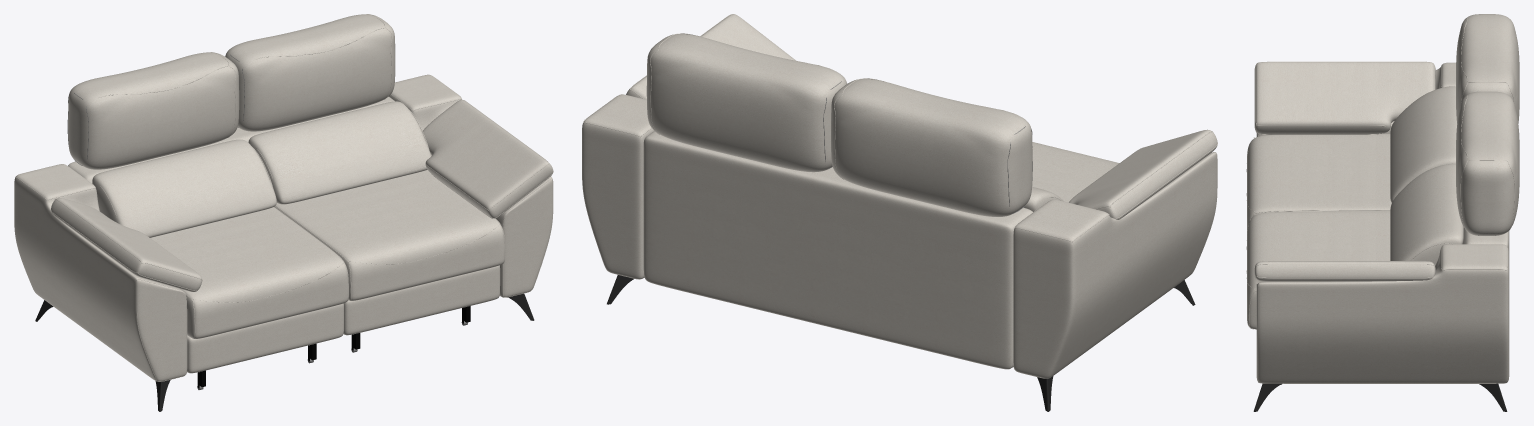
The model's file is 2arm2seats.glb.
3 renders of one model, left to right at view 1: azimuth 30°, elevation 25°; view 2: azimuth 150°, elevation 25°; view 3: azimuth 270°, elevation 25°, orthographic. The views are drawn at different scales.
Visible parts, largest first — view 1: assento (×2), Cabeça (×2), object 11, object 28, object 27, object 15, object 25, object 19, Costa; view 2: Costa, Cabeça (×2), object 11, object 25, object 19, assento, object 15; view 3: object 25, assento (×2), Cabeça (×2), object 19, object 27, object 28, object 15, object 11, Costa, D=~ 0,00 m, object 23, object 24.
Part boxes in pixels (<box>): assento (×2): <box>150,170,504,389</box>; Cabeça (×2): <box>68,14,395,169</box>; object 11: <box>14,164,186,381</box>; object 28: <box>92,139,276,237</box>; object 27: <box>248,101,431,204</box>; object 15: <box>422,99,553,218</box>; object 25: <box>389,74,552,297</box>; object 19: <box>51,198,202,291</box>; Costa: <box>68,96,394,183</box>; Costa: <box>643,131,1032,369</box>; Cabeça (×2): <box>646,34,1032,216</box>; object 11: <box>1013,152,1217,378</box>; object 25: <box>582,94,653,279</box>; object 19: <box>1069,129,1217,219</box>; assento: <box>1012,142,1119,367</box>; object 15: <box>626,14,795,99</box>; object 25: <box>1256,244,1509,383</box>; assento (×2): <box>1247,133,1391,384</box>; Cabeça (×2): <box>1456,14,1519,235</box>; object 19: <box>1254,62,1435,134</box>; object 27: <box>1390,163,1463,265</box>; object 28: <box>1390,86,1457,202</box>; object 15: <box>1254,261,1435,282</box>; object 11: <box>1256,62,1455,136</box>; Costa: <box>1462,227,1509,253</box>; D=~ 0,00 m: <box>1255,61,1434,126</box>; object 23: <box>1253,383,1281,411</box>; object 24: <box>1479,383,1507,411</box>.
Bounding box in the file's own units: 1.98 × 1.04 × 1.1.
5 materials, 1 textured.
